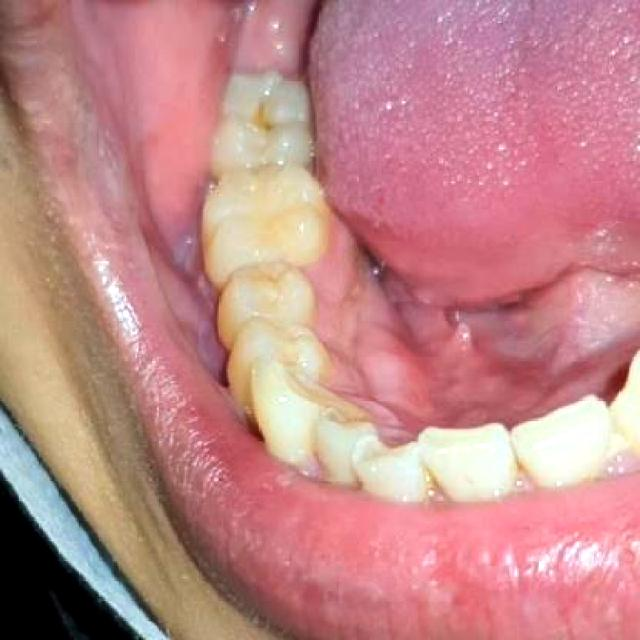Plaque: (248, 95, 282, 135)
